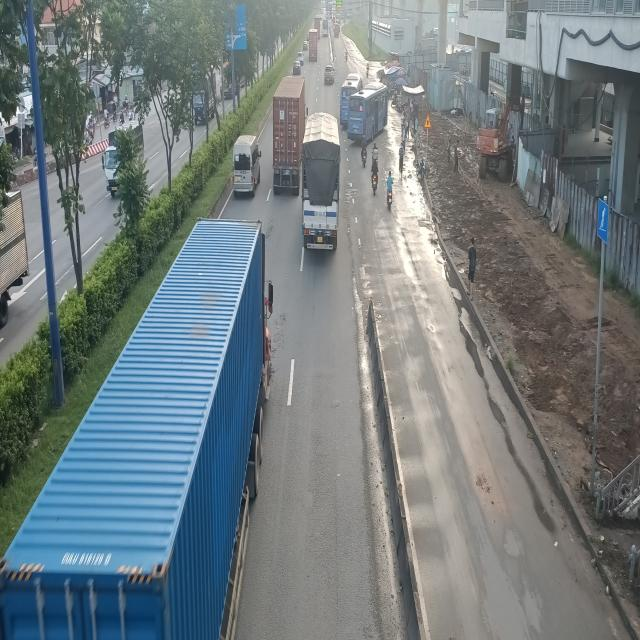coach: (350, 83, 389, 144)
container: (20, 223, 271, 640), (272, 76, 308, 194)
truck: (302, 115, 345, 258)
van: (232, 135, 263, 199)
